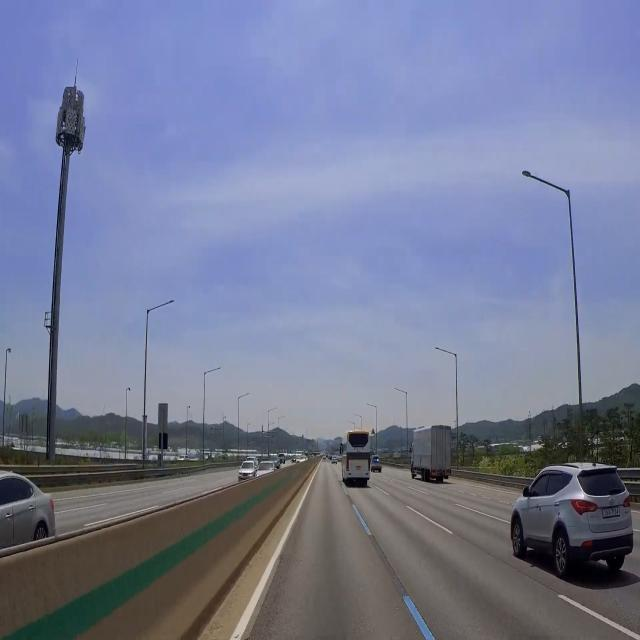car: (600, 505, 623, 522), (353, 462, 365, 476)
